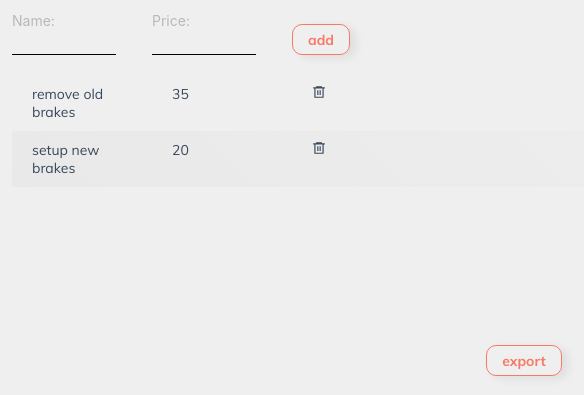
Scenario: Details › should be able to add new detail
In the field with test id "name-input": (64, 46) [12,37,116,55], type "turbo"
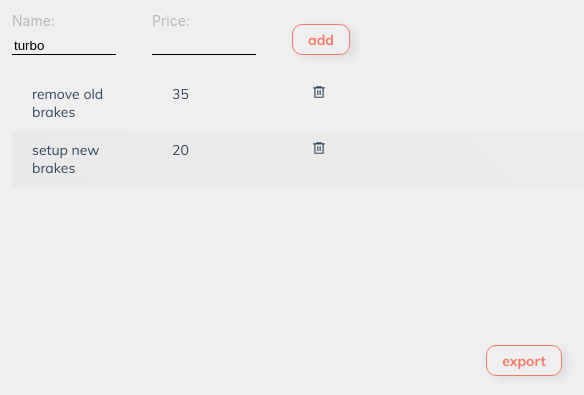
In the field with test id "price-input": (204, 46) [152,37,256,55], type "45"
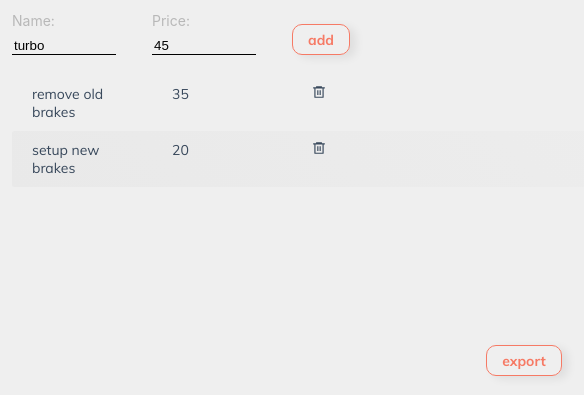
Click the button "add": click(321, 40) [292,24,350,55]
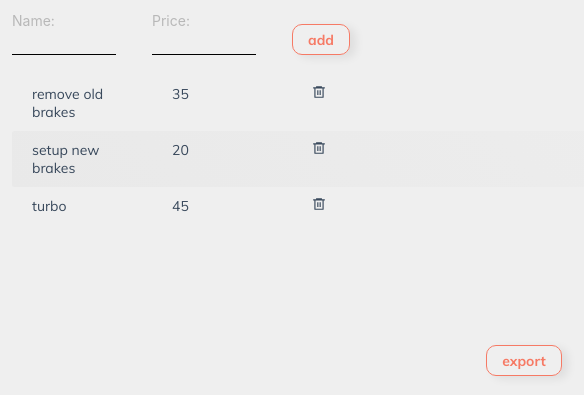
Expected: the text "turbo" is shown, [32,197,66,215]
